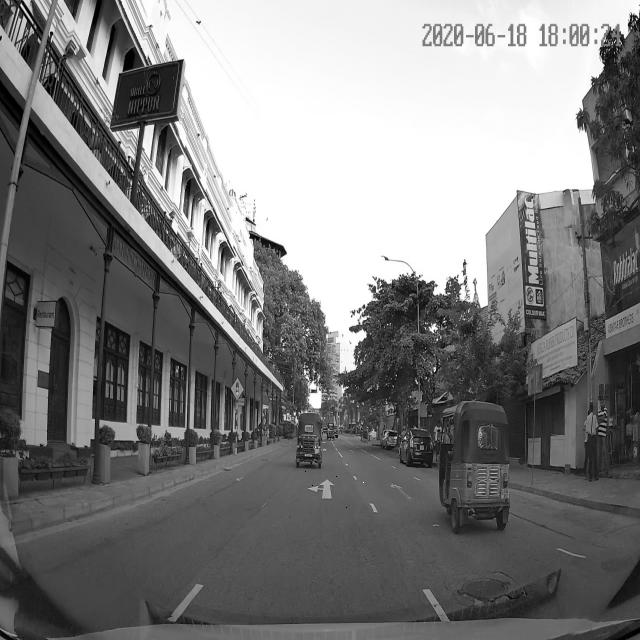forward_lft: (253, 472, 382, 510)
